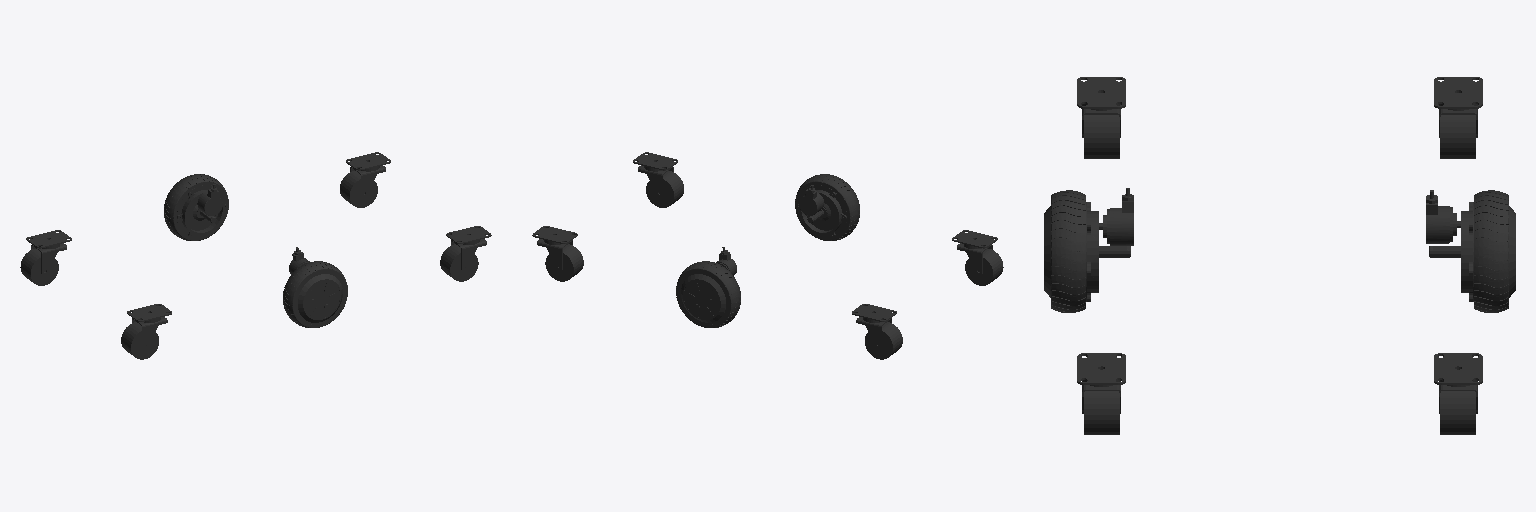
URDF robot description (yumi_phat_bang):
<?xml version="1.0" encoding="utf-8"?>
<!-- This URDF was automatically created by SolidWorks to URDF Exporter! Originally created by Stephen Brawner (brawner@gmail.com) 
     Commit Version: 1.6.0-4-g7f85cfe  Build Version: 1.6.7995.38578
     For more information, please see http://wiki.ros.org/sw_urdf_exporter -->
<robot
  name="yumi_phat_bang">
  <link
    name="base_link">
    <inertial>
      <origin
        xyz="-0.002244 -0.0028618 -0.053903"
        rpy="0 0 0" />
      <mass
        value="13.027" />
      <inertia
        ixx="0.13787"
        ixy="9.1315E-08"
        ixz="-2.4277E-08"
        iyy="0.22208"
        iyz="-1.8944E-05"
        izz="0.35352" />
    </inertial>
    <visual>
      <origin
        xyz="0 0 0"
        rpy="0 0 0" />
      <geometry>
        <mesh
          filename="package://yumi_phat_bang/meshes/base_link.STL" />
      </geometry>
      <material
        name="">
        <color
          rgba="1 1 1 1" />
      </material>
    </visual>
    <collision>
      <origin
        xyz="0 0 0"
        rpy="0 0 0" />
      <geometry>
        <mesh
          filename="package://yumi_phat_bang/meshes/base_link.STL" />
      </geometry>
    </collision>
  </link>
  <link
    name="leftwheel_link">
    <inertial>
      <origin
        xyz="-0.000189303525734298 -0.00282148596422521 -0.0359160828249054"
        rpy="0 0 0" />
      <mass
        value="1.06545247475586" />
      <inertia
        ixx="0.00165319086675699"
        ixy="7.85400166465839E-07"
        ixz="2.37274097535984E-07"
        iyy="0.00164770439767459"
        iyz="-1.45324498622561E-06"
        izz="0.00281303686784971" />
    </inertial>
    <visual>
      <origin
        xyz="0 0 0"
        rpy="0 0 0" />
      <geometry>
        <mesh
          filename="package://yumi_phat_bang/meshes/leftwheel_link.STL" />
      </geometry>
      <material
        name="">
        <color
          rgba="0.250980392156863 0.250980392156863 0.250980392156863 1" />
      </material>
    </visual>
    <collision>
      <origin
        xyz="0 0 0"
        rpy="0 0 0" />
      <geometry>
        <mesh
          filename="package://yumi_phat_bang/meshes/leftwheel_link.STL" />
      </geometry>
    </collision>
  </link>
  <joint
    name="leftwheel_joint"
    type="continuous">
    <origin
      xyz="0 0.3038 -0.079"
      rpy="-1.5708 0 0" />
    <parent
      link="base_link" />
    <child
      link="leftwheel_link" />
    <axis
      xyz="0 0 -1" />
    <dynamics
      damping="0.1"
      friction="0.1" />
  </joint>
  <link
    name="left_casterwheel_before_link">
    <inertial>
      <origin
        xyz="-0.0200489398247827 0.0374278559420575 -3.60822483003176E-16"
        rpy="0 0 0" />
      <mass
        value="0.258259398699812" />
      <inertia
        ixx="0.000147261729627472"
        ixy="1.1715813883362E-05"
        ixz="-1.00816749514953E-19"
        iyy="0.000146111980507694"
        iyz="4.92001396309822E-19"
        izz="0.000192093329563559" />
    </inertial>
    <visual>
      <origin
        xyz="0 0 0"
        rpy="0 0 0" />
      <geometry>
        <mesh
          filename="package://yumi_phat_bang/meshes/left_casterwheel_before_link.STL" />
      </geometry>
      <material
        name="">
        <color
          rgba="0.250980392156863 0.250980392156863 0.250980392156863 1" />
      </material>
    </visual>
    <collision>
      <origin
        xyz="0 0 0"
        rpy="0 0 0" />
      <geometry>
        <mesh
          filename="package://yumi_phat_bang/meshes/left_casterwheel_before_link.STL" />
      </geometry>
    </collision>
  </link>
  <joint
    name="left_casterwheel_before_joint"
    type="fixed">
    <origin
      xyz="0.42992 0.23002 -0.061"
      rpy="-1.5708 0 0" />
    <parent
      link="base_link" />
    <child
      link="left_casterwheel_before_link" />
    <axis
      xyz="0 0 0" />
    <dynamics
      damping="0.1"
      friction="0.1" />
  </joint>
  <link
    name="left_casterwheel_after_link">
    <inertial>
      <origin
        xyz="-0.0200489398247847 0.0374278559420575 -3.33066907387547E-16"
        rpy="0 0 0" />
      <mass
        value="0.258259398699812" />
      <inertia
        ixx="0.000147261729627472"
        ixy="1.17158138833619E-05"
        ixz="-1.04385071028425E-19"
        iyy="0.000146111980507694"
        iyz="4.91775740987432E-19"
        izz="0.000192093329563559" />
    </inertial>
    <visual>
      <origin
        xyz="0 0 0"
        rpy="0 0 0" />
      <geometry>
        <mesh
          filename="package://yumi_phat_bang/meshes/left_casterwheel_after_link.STL" />
      </geometry>
      <material
        name="">
        <color
          rgba="0.250980392156863 0.250980392156863 0.250980392156863 1" />
      </material>
    </visual>
    <collision>
      <origin
        xyz="0 0 0"
        rpy="0 0 0" />
      <geometry>
        <mesh
          filename="package://yumi_phat_bang/meshes/left_casterwheel_after_link.STL" />
      </geometry>
    </collision>
  </link>
  <joint
    name="left_casterwheel_after_joint"
    type="fixed">
    <origin
      xyz="-0.41342 0.23002 -0.061"
      rpy="-1.5708 0 0" />
    <parent
      link="base_link" />
    <child
      link="left_casterwheel_after_link" />
    <axis
      xyz="0 0 0" />
    <dynamics
      damping="0.1"
      friction="0.1" />
  </joint>
  <link
    name="rightwheel_link">
    <inertial>
      <origin
        xyz="0.000189303525734299 -0.00282148596422473 0.0359160828249056"
        rpy="0 0 0" />
      <mass
        value="1.06545247475586" />
      <inertia
        ixx="0.00165319086675699"
        ixy="-7.85400166465608E-07"
        ixz="2.37274097535909E-07"
        iyy="0.00164770439767458"
        iyz="1.45324498624217E-06"
        izz="0.00281303686784971" />
    </inertial>
    <visual>
      <origin
        xyz="0 0 0"
        rpy="0 0 0" />
      <geometry>
        <mesh
          filename="package://yumi_phat_bang/meshes/rightwheel_link.STL" />
      </geometry>
      <material
        name="">
        <color
          rgba="0.250980392156863 0.250980392156863 0.250980392156863 1" />
      </material>
    </visual>
    <collision>
      <origin
        xyz="0 0 0"
        rpy="0 0 0" />
      <geometry>
        <mesh
          filename="package://yumi_phat_bang/meshes/rightwheel_link.STL" />
      </geometry>
    </collision>
  </link>
  <joint
    name="rightwheel_joint"
    type="continuous">
    <origin
      xyz="0 -0.3038 -0.079"
      rpy="-1.5708 0 0" />
    <parent
      link="base_link" />
    <child
      link="rightwheel_link" />
    <axis
      xyz="0 0 1" />
    <dynamics
      damping="0.1"
      friction="0.1" />
  </joint>
  <link
    name="right_casterwheel_before_link">
    <inertial>
      <origin
        xyz="-0.0200489398247822 0.0374278559420574 -1.94289029309402E-16"
        rpy="0 0 0" />
      <mass
        value="0.258259398699812" />
      <inertia
        ixx="0.000147261729627473"
        ixy="1.17158138833619E-05"
        ixz="-8.74629544125374E-20"
        iyy="0.000146111980507695"
        iyz="2.08832991351869E-19"
        izz="0.000192093329563559" />
    </inertial>
    <visual>
      <origin
        xyz="0 0 0"
        rpy="0 0 0" />
      <geometry>
        <mesh
          filename="package://yumi_phat_bang/meshes/right_casterwheel_before_link.STL" />
      </geometry>
      <material
        name="">
        <color
          rgba="0.250980392156863 0.250980392156863 0.250980392156863 1" />
      </material>
    </visual>
    <collision>
      <origin
        xyz="0 0 0"
        rpy="0 0 0" />
      <geometry>
        <mesh
          filename="package://yumi_phat_bang/meshes/right_casterwheel_before_link.STL" />
      </geometry>
    </collision>
  </link>
  <joint
    name="right_casterwheel_before_joint"
    type="fixed">
    <origin
      xyz="0.42992 -0.23002 -0.061"
      rpy="-1.5708 0 0" />
    <parent
      link="base_link" />
    <child
      link="right_casterwheel_before_link" />
    <axis
      xyz="0 0 0" />
    <dynamics
      damping="0.1"
      friction="0.1" />
  </joint>
  <link
    name="right_casterwheel_after_link">
    <inertial>
      <origin
        xyz="-0.0200489398247852 0.0374278559420574 -1.66533453693773E-16"
        rpy="0 0 0" />
      <mass
        value="0.258259398699812" />
      <inertia
        ixx="0.000147261729627473"
        ixy="1.17158138833619E-05"
        ixz="-8.52350377120549E-20"
        iyy="0.000146111980507695"
        iyz="2.08294013706418E-19"
        izz="0.000192093329563559" />
    </inertial>
    <visual>
      <origin
        xyz="0 0 0"
        rpy="0 0 0" />
      <geometry>
        <mesh
          filename="package://yumi_phat_bang/meshes/right_casterwheel_after_link.STL" />
      </geometry>
      <material
        name="">
        <color
          rgba="0.250980392156863 0.250980392156863 0.250980392156863 1" />
      </material>
    </visual>
    <collision>
      <origin
        xyz="0 0 0"
        rpy="0 0 0" />
      <geometry>
        <mesh
          filename="package://yumi_phat_bang/meshes/right_casterwheel_after_link.STL" />
      </geometry>
    </collision>
  </link>
  <joint
    name="right_casterwheel_after_joint"
    type="fixed">
    <origin
      xyz="-0.41342 -0.23002 -0.061"
      rpy="-1.5708 0 0" />
    <parent
      link="base_link" />
    <child
      link="right_casterwheel_after_link" />
    <axis
      xyz="0 0 0" />
    <dynamics
      damping="0.1"
      friction="0.1" />
  </joint>
  <link
    name="front_lidar_link">
    <inertial>
      <origin
        xyz="0.00303996073716362 9.65791121160242E-07 0.0128055204579271"
        rpy="0 0 0" />
      <mass
        value="0.0350818392041316" />
      <inertia
        ixx="1.94316858698436E-05"
        ixy="9.0920952673613E-10"
        ixz="-4.07022920786857E-08"
        iyy="1.93203923947135E-05"
        iyz="8.87510916538645E-10"
        izz="3.7018454642383E-05" />
    </inertial>
    <visual>
      <origin
        xyz="0 0 0"
        rpy="0 0 0" />
      <geometry>
        <mesh
          filename="package://yumi_phat_bang/meshes/front_lidar_link.STL" />
      </geometry>
      <material
        name="">
        <color
          rgba="0 0 0 1" />
      </material>
    </visual>
    <collision>
      <origin
        xyz="0 0 0"
        rpy="0 0 0" />
      <geometry>
        <mesh
          filename="package://yumi_phat_bang/meshes/front_lidar_link.STL" />
      </geometry>
    </collision>
  </link>
  <joint
    name="front_lidar_joint"
    type="fixed">
    <origin
      xyz="0.42855 -0.228 -0.01805"
      rpy="0 0 -3.1416" />
    <parent
      link="base_link" />
    <child
      link="front_lidar_link" />
    <axis
      xyz="0 0 0" />
    <dynamics
      damping="0.1"
      friction="0.1" />
  </joint>
  <link
    name="rear_lidar_link">
    <inertial>
      <origin
        xyz="0 0 0"
        rpy="0 0 0" />
      <mass
        value="0" />
      <inertia
        ixx="0"
        ixy="0"
        ixz="0"
        iyy="0"
        iyz="0"
        izz="0" />
    </inertial>
    <visual>
      <origin
        xyz="0 0 0"
        rpy="0 0 0" />
      <geometry>
        <mesh
          filename="package://yumi_phat_bang/meshes/rear_lidar_link.STL" />
      </geometry>
      <material
        name="">
        <color
          rgba="1 1 1 1" />
      </material>
    </visual>
    <collision>
      <origin
        xyz="0 0 0"
        rpy="0 0 0" />
      <geometry>
        <mesh
          filename="package://yumi_phat_bang/meshes/rear_lidar_link.STL" />
      </geometry>
    </collision>
  </link>
  <joint
    name="rear_lidar_joint"
    type="fixed">
    <origin
      xyz="-0.42797 0.22761 -0.01441"
      rpy="0 0 0" />
    <parent
      link="base_link" />
    <child
      link="rear_lidar_link" />
    <axis
      xyz="0 0 0" />
    <dynamics
      damping="0.1"
      friction="0.1" />
  </joint>
</robot>

--- What the picture shows (computed from the rendered views, not written in the file) ---
Views: 3 orthographic renders of the robot side by side, from view 1: azimuth 30°, elevation 25°; view 2: azimuth 150°, elevation 25°; view 3: azimuth 270°, elevation 25°.
Model yumi_phat_bang with 9 links and 8 joints (2 continuous, 6 fixed), rooted at base_link, posed all joints at 0.
Links seen in each view (by area): view 1: rightwheel_link, leftwheel_link, right_casterwheel_before_link, left_casterwheel_after_link, right_casterwheel_after_link, left_casterwheel_before_link; view 2: leftwheel_link, rightwheel_link, left_casterwheel_before_link, right_casterwheel_after_link, left_casterwheel_after_link, right_casterwheel_before_link; view 3: rightwheel_link, leftwheel_link, left_casterwheel_after_link, right_casterwheel_after_link, left_casterwheel_before_link, right_casterwheel_before_link.
Link boxes in pixels (<box>): rightwheel_link: <box>283,247,347,327</box>; leftwheel_link: <box>164,174,228,240</box>; right_casterwheel_before_link: <box>440,226,491,281</box>; left_casterwheel_after_link: <box>20,230,71,285</box>; right_casterwheel_after_link: <box>121,304,171,359</box>; left_casterwheel_before_link: <box>340,152,390,207</box>; leftwheel_link: <box>676,247,740,327</box>; rightwheel_link: <box>795,174,859,240</box>; left_casterwheel_before_link: <box>532,226,583,281</box>; right_casterwheel_after_link: <box>952,230,1003,285</box>; left_casterwheel_after_link: <box>852,304,902,359</box>; right_casterwheel_before_link: <box>633,152,683,207</box>; rightwheel_link: <box>1044,188,1133,312</box>; leftwheel_link: <box>1426,190,1515,312</box>; left_casterwheel_after_link: <box>1434,77,1482,158</box>; right_casterwheel_after_link: <box>1077,77,1125,158</box>; left_casterwheel_before_link: <box>1434,353,1482,434</box>; right_casterwheel_before_link: <box>1077,353,1125,434</box>.
Bounding box of the posed robot: 0.9518 × 0.6076 × 0.1682 m (x, y, z).
6 mesh visuals loaded from 9 distinct referenced files (6 binary STL); not drawn: 3 (reference not matched to a file when rendering).
